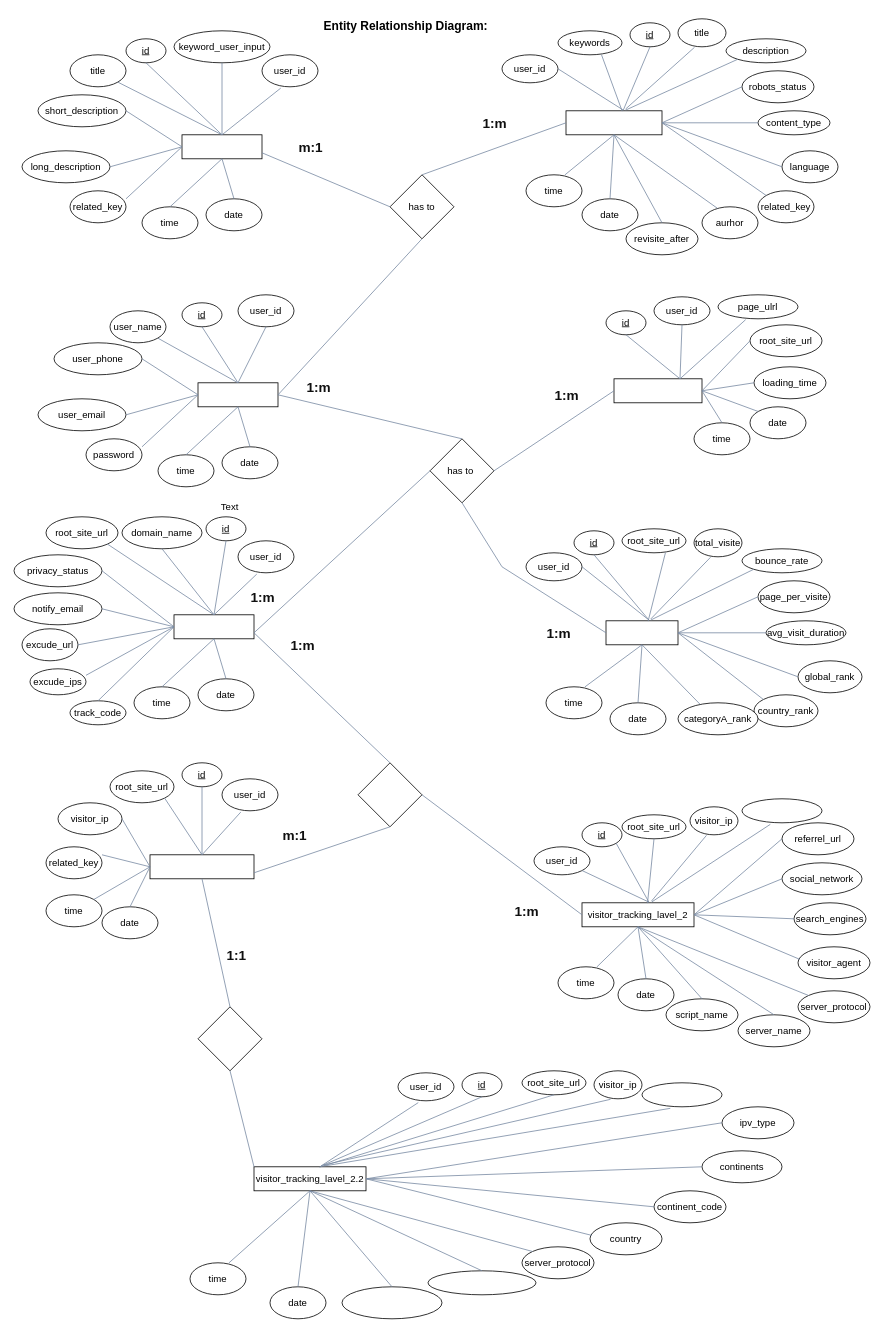
Image size: 884x1333. Some labels were removed from this diagram. The shapes that lost their labels are listed below. From the top down, each one's centre as x and y in pixels, then its label:
At point 613,122: "meta_tag_generator".
At point 221,146: "keyword_analysis".
At point 237,394: "user_table".
At point 657,390: "page_loading_time".
At point 213,626: "user_site".
At point 641,632: "site_info".
At point 389,794: "Get it".
At point 781,810: "opening_system".
At point 201,866: "visitor_tracking_lavel_1".
At point 229,1038: "get".
At point 681,1094: "success_status".
At point 391,1302: "timezone_current_time".
At point 481,1282: "timezone_utc".
